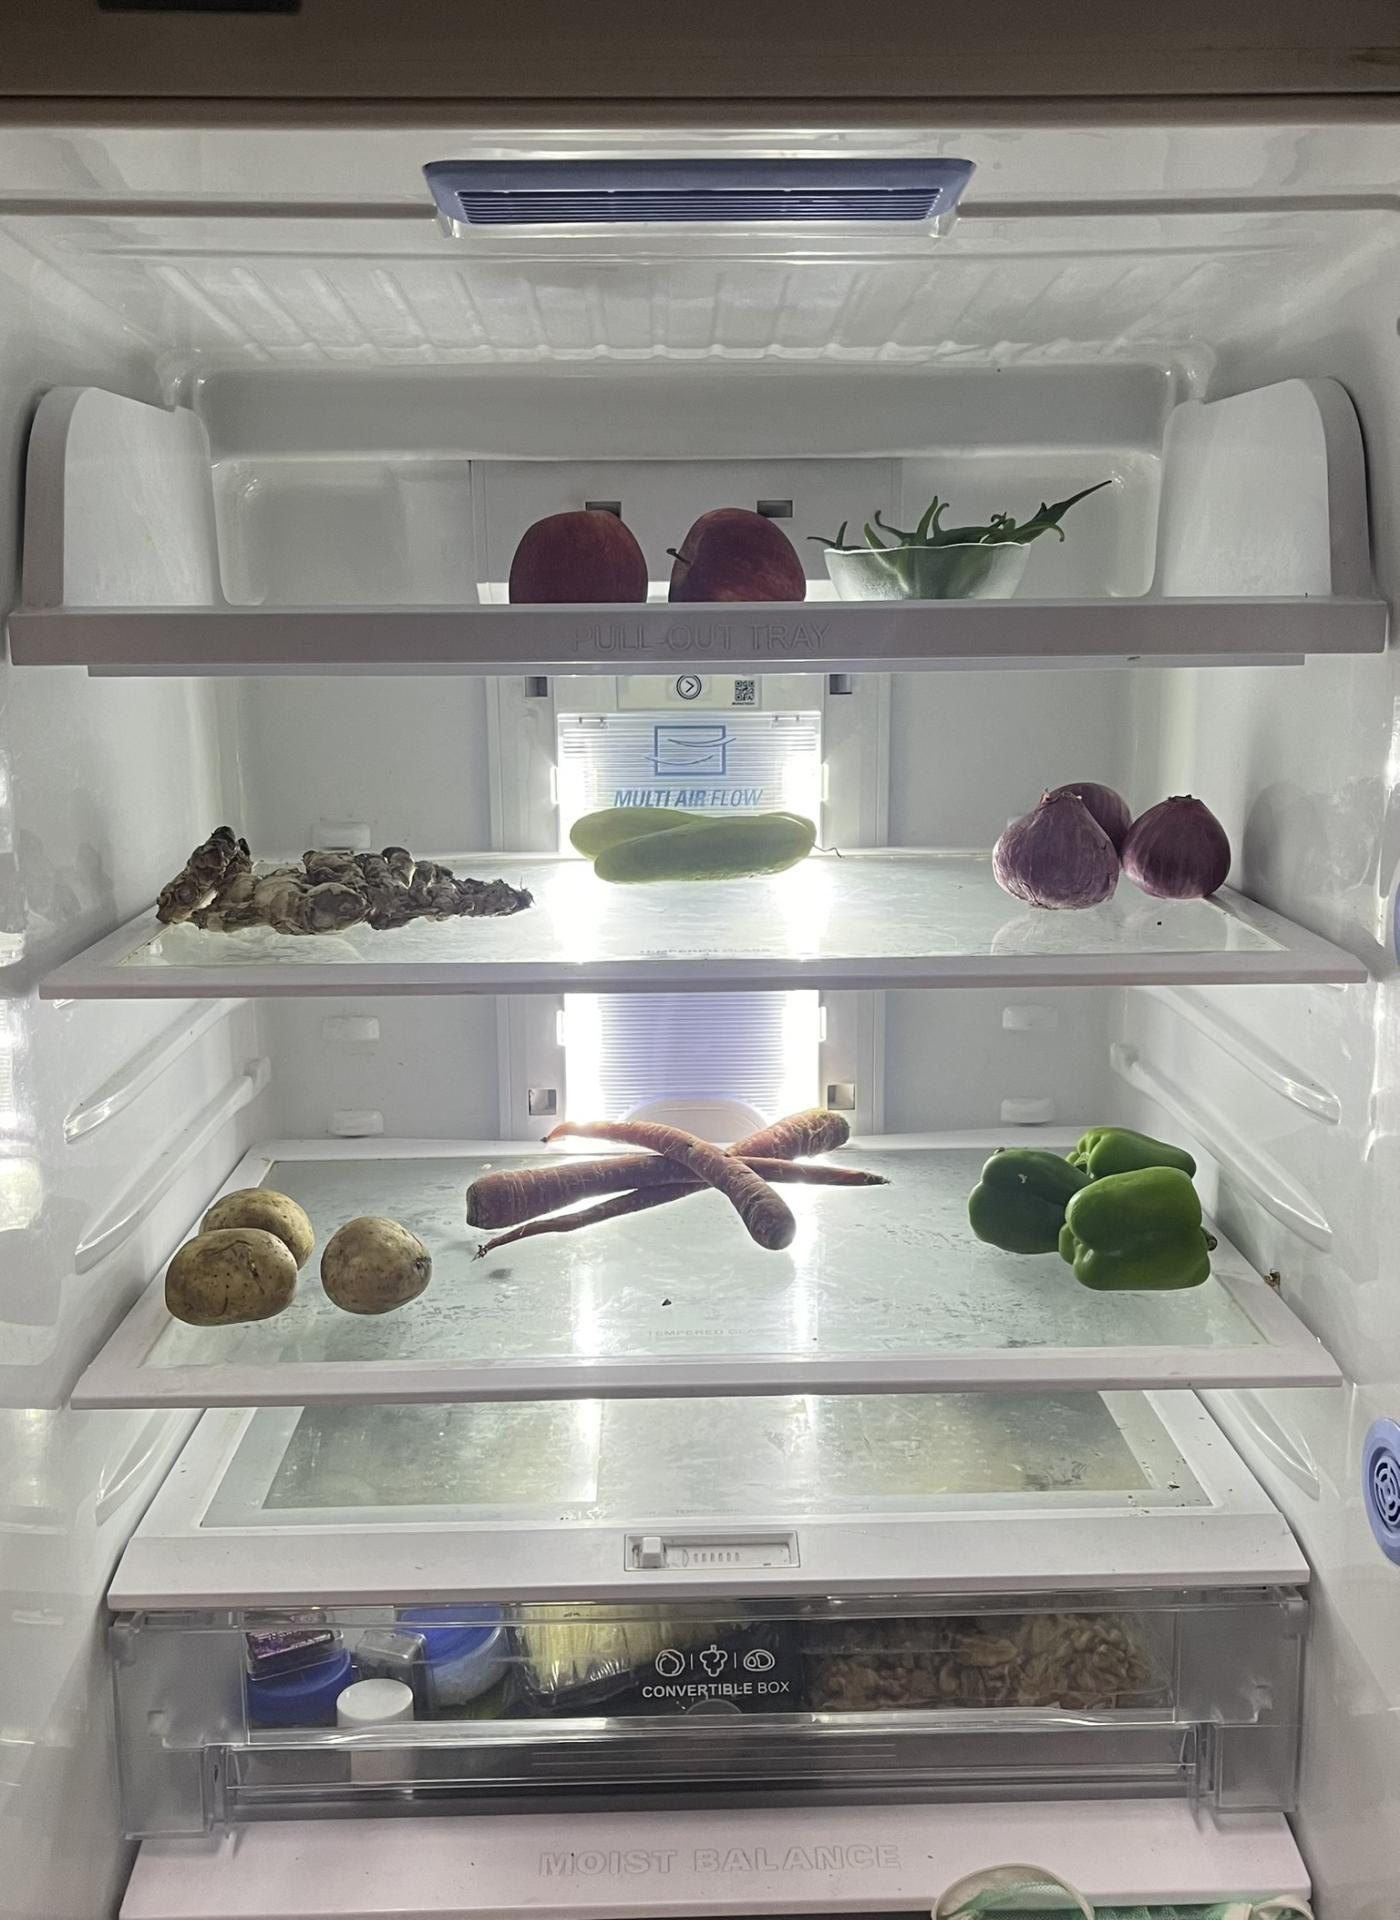apple: (501, 502, 659, 607), (672, 505, 802, 599)
capsicum: (957, 1112, 1237, 1291)
carrots: (462, 1103, 884, 1254)
chillies: (835, 481, 1097, 590)
cucumber: (562, 798, 823, 891)
ginger: (155, 818, 538, 938)
onion: (993, 769, 1245, 909)
potato: (158, 1184, 331, 1340), (307, 1212, 443, 1315)
